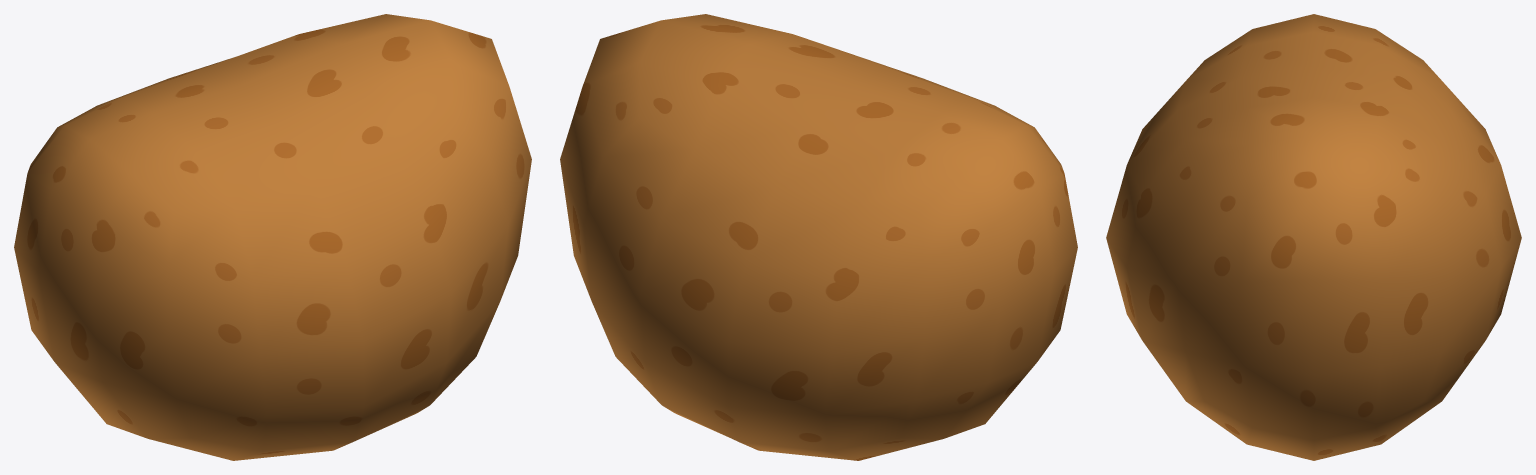
Rendered from PAPA.fbx.
3 renders of one model, left to right at view 1: azimuth 30°, elevation 25°; view 2: azimuth 150°, elevation 25°; view 3: azimuth 270°, elevation 25°, orthographic. The views are drawn at different scales.
Visible parts, largest first — view 1: Box003; view 2: Box003; view 3: Box003.
Part boxes in pixels (box(x1,y1,x2,y2)): Box003: box(14, 14, 531, 460); Box003: box(560, 14, 1077, 460); Box003: box(1106, 14, 1521, 460).
Bounding box in the file's own units: 11.57 × 8.86 × 9.34.
Materials: 1 (1 with a texture image).
